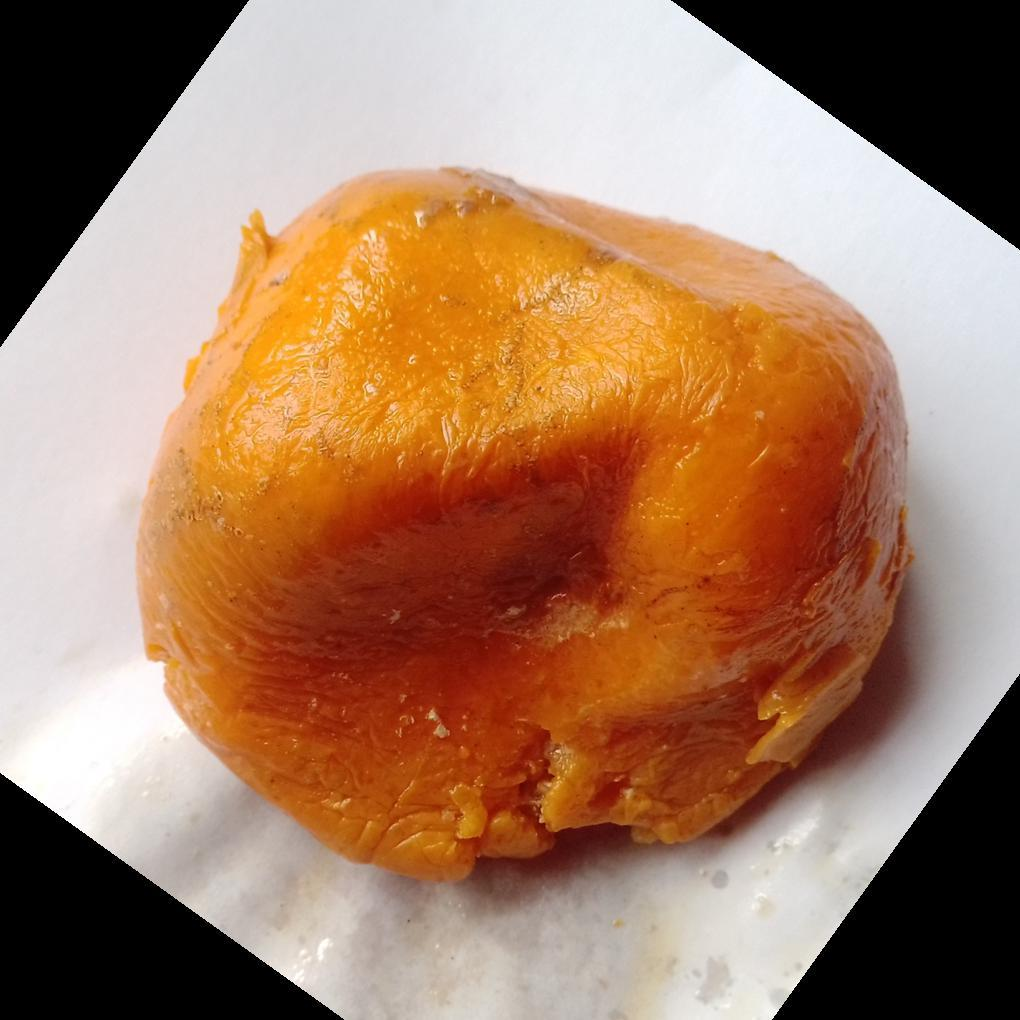FreshOrange: (133, 168, 914, 887)
